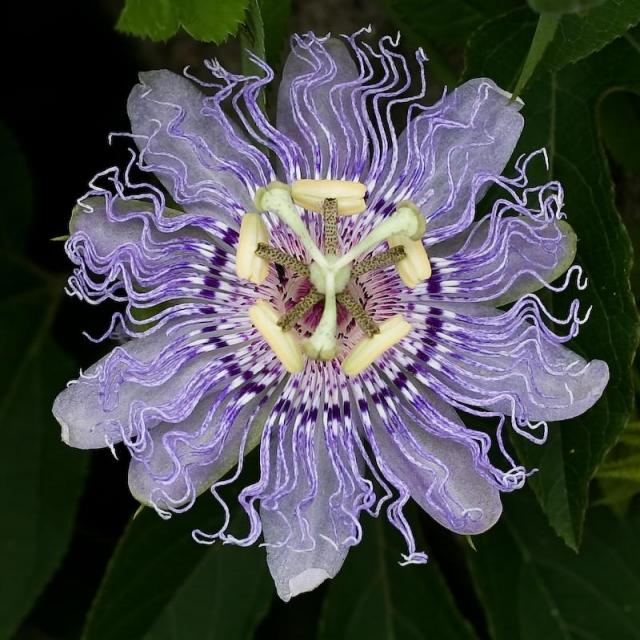organic waste: (46, 19, 608, 596)
